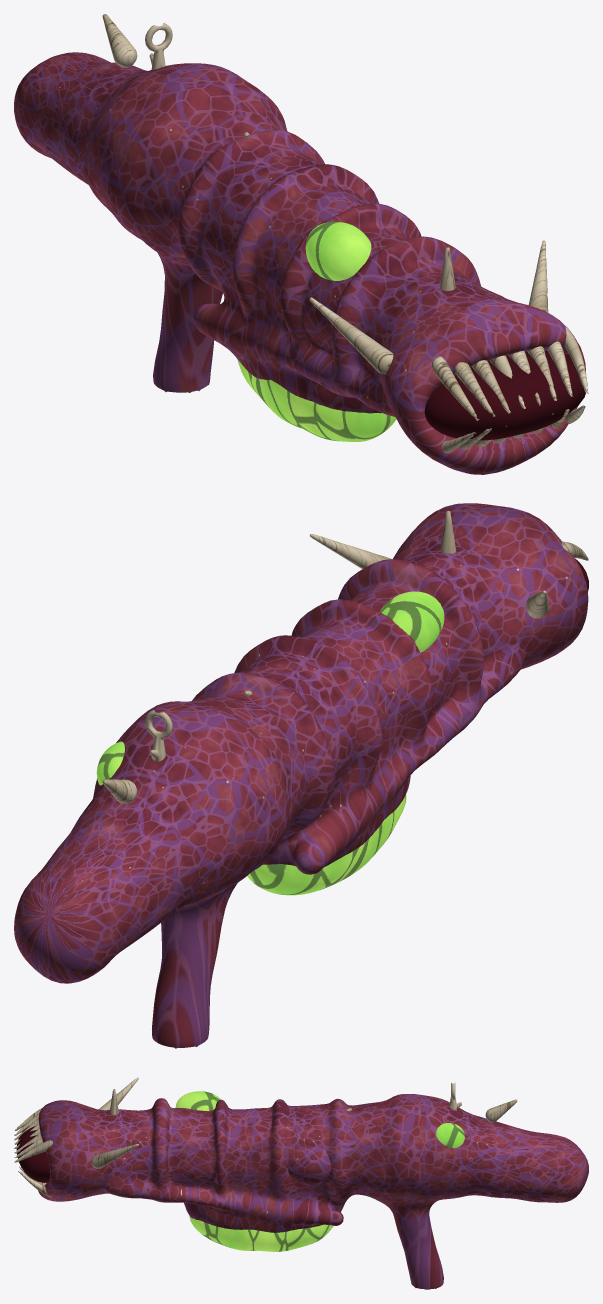
Rendered from gun_bio_bile.glb.
The picture shows the model from 3 angles, top to bottom: view 1: azimuth 30°, elevation 25°; view 2: azimuth 150°, elevation 25°; view 3: azimuth 270°, elevation 25°; orthographic projection. The views are drawn at different scales.
Visible parts, largest first — view 1: gun_bio_bile; view 2: gun_bio_bile; view 3: gun_bio_bile, hatch.
Boxes of the visible parts, x1,y1,x2,y2 form: gun_bio_bile: (14, 14, 588, 474); gun_bio_bile: (14, 503, 588, 1048); gun_bio_bile: (14, 1077, 588, 1289); hatch: (288, 1145, 331, 1185).
Size of the model in its own units: 0.2025 by 0.2814 by 0.7297.
5 materials, 4 textured.
